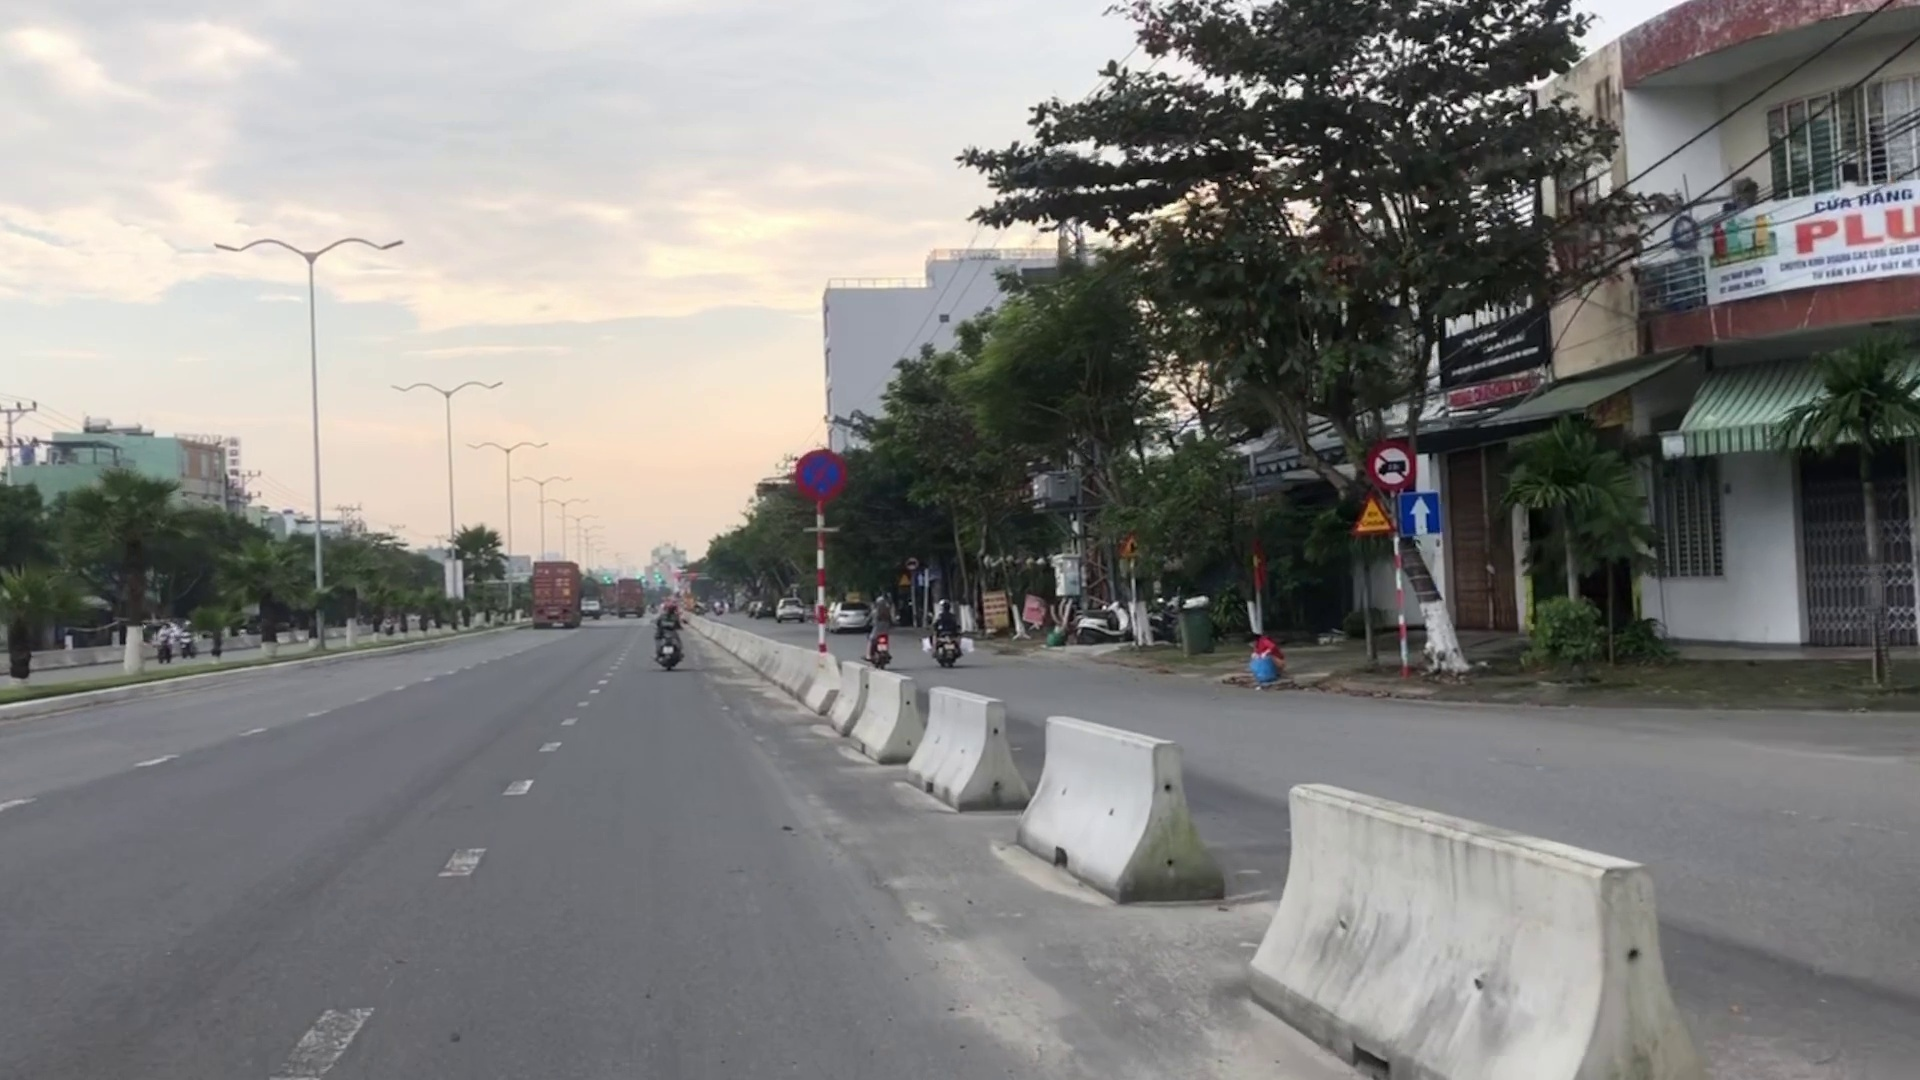Bien khac: (799, 451, 844, 498), (1396, 491, 1441, 538), (1350, 493, 1395, 537), (1375, 443, 1414, 491), (905, 553, 920, 571)
Giao nhau voi duong khong uu tien: (1125, 534, 1143, 555)
